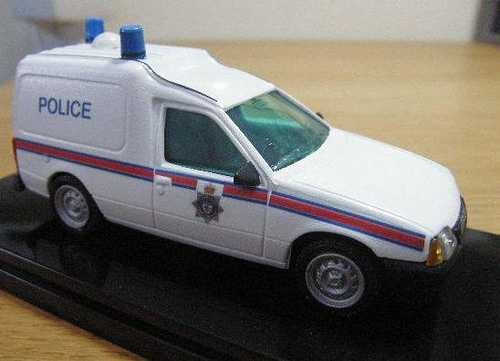Police Car: (11, 10, 468, 294)
